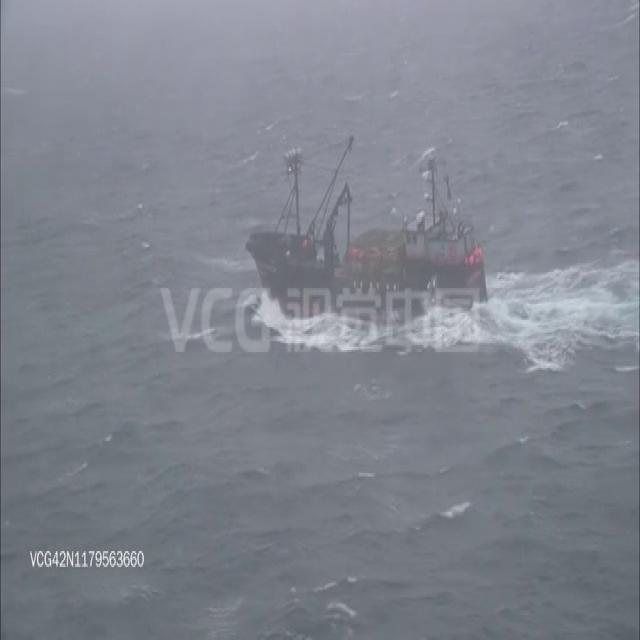houseboat: (254, 142, 482, 325)
